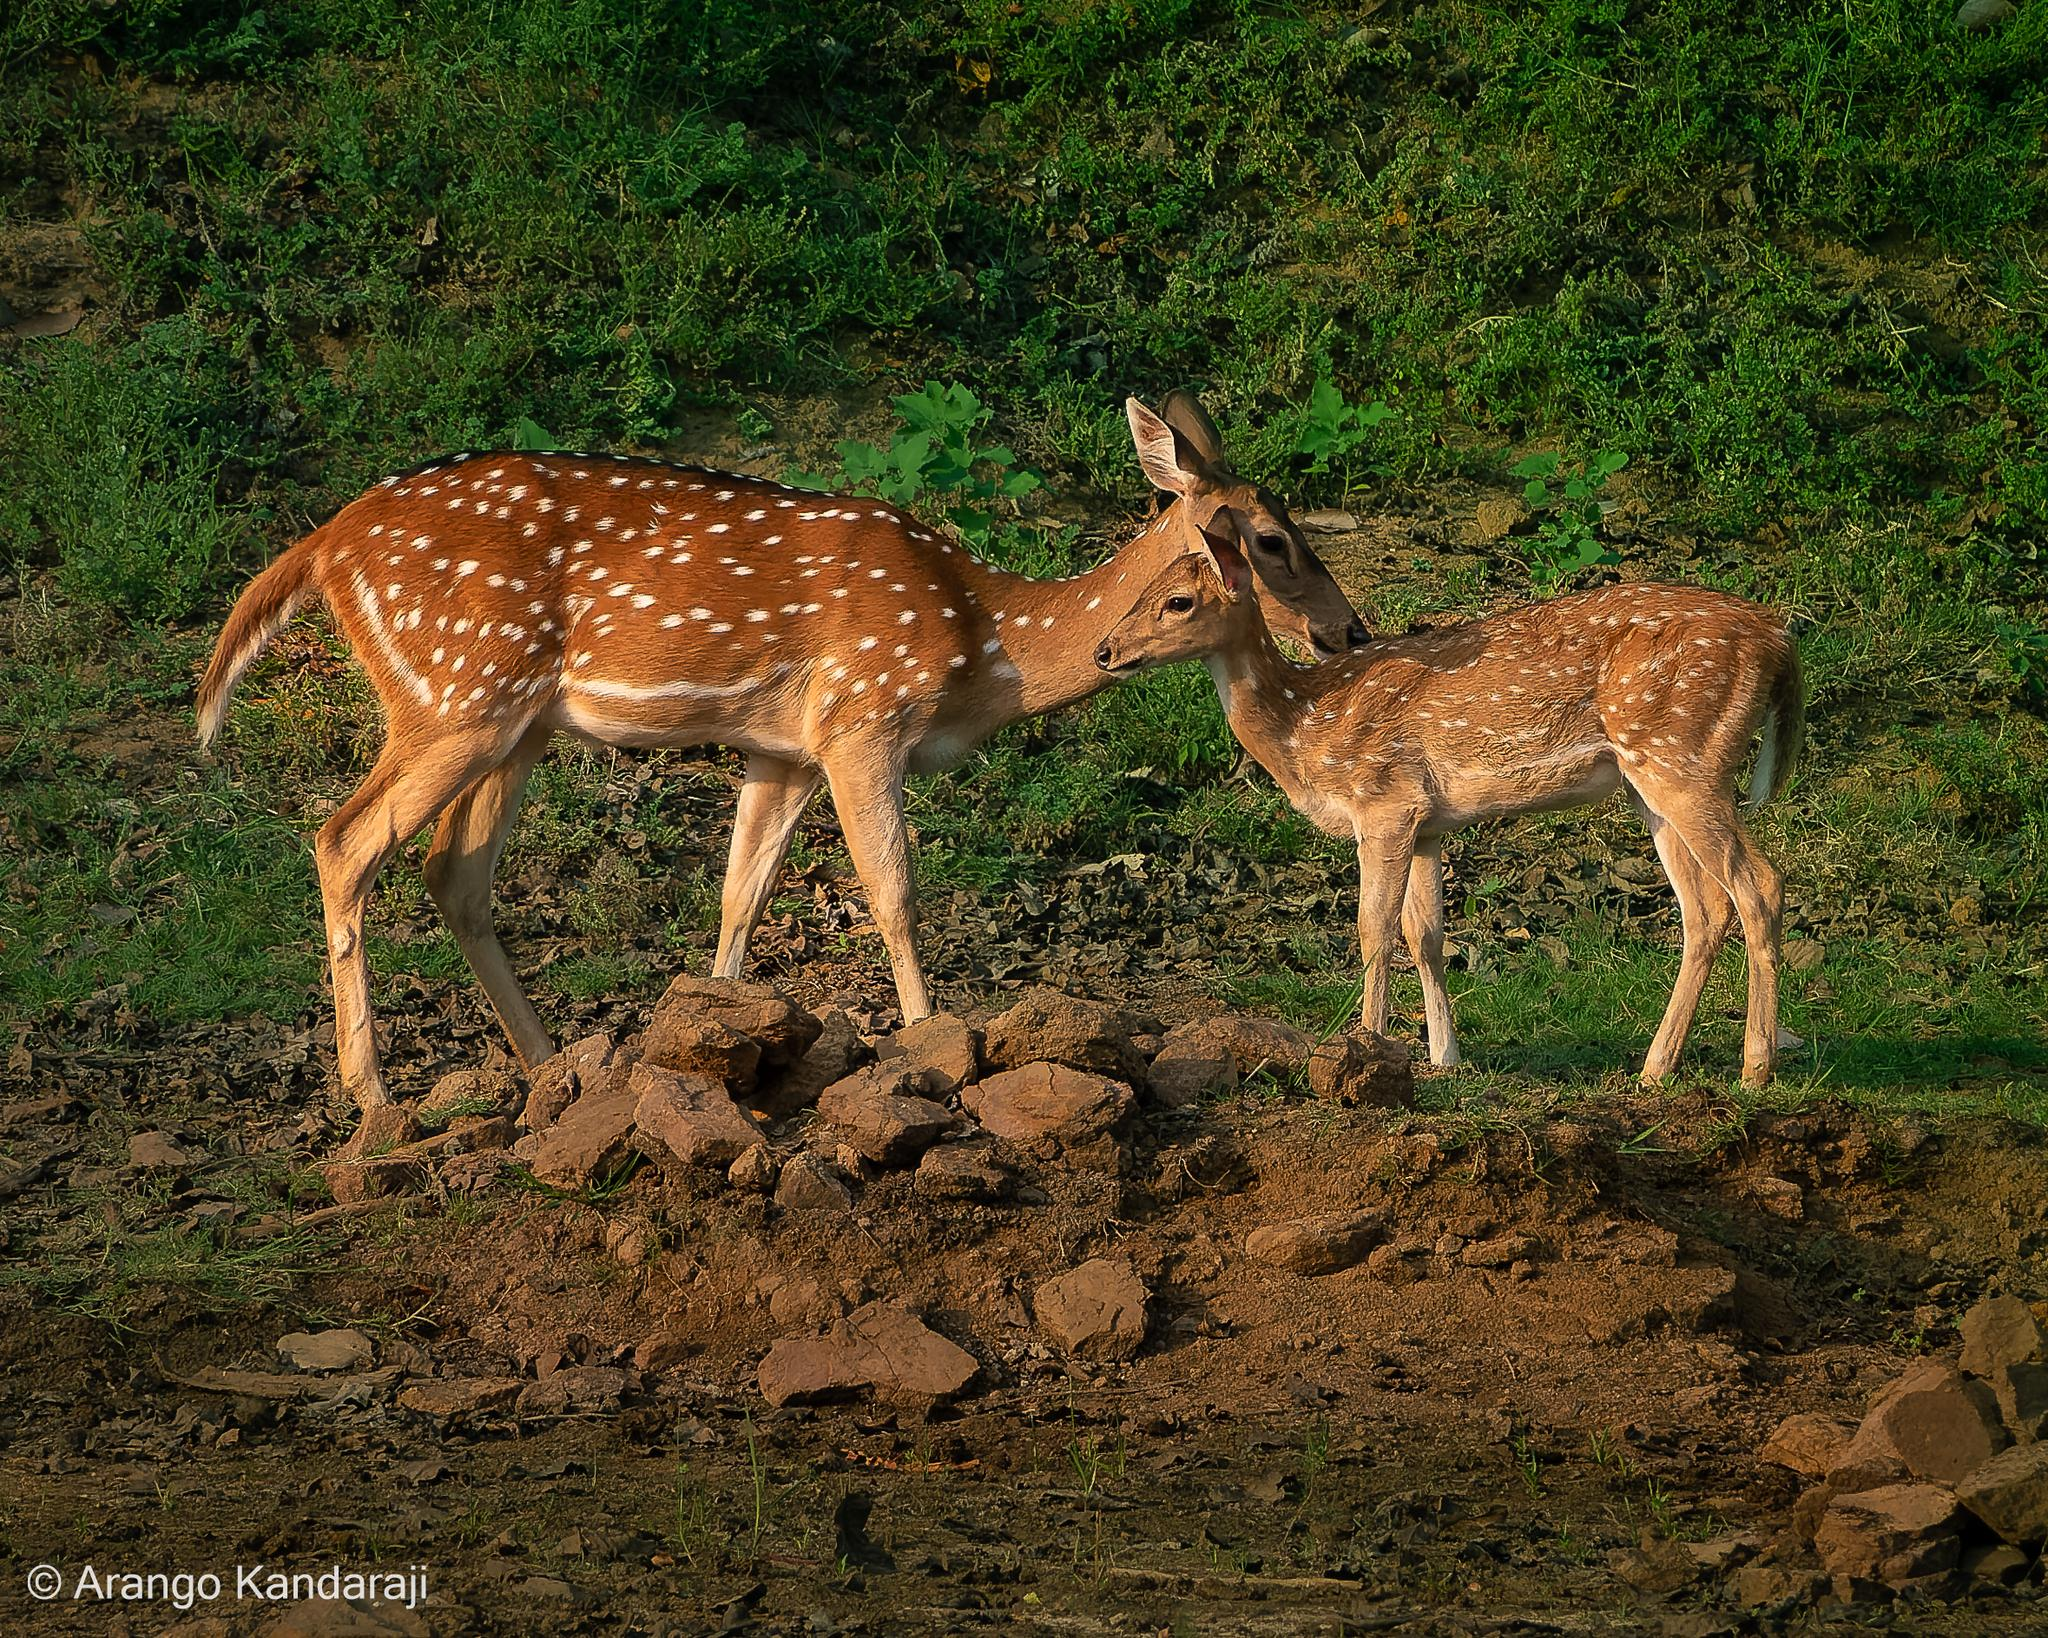Deer: (196, 391, 1369, 1105), (1095, 501, 1802, 1085)
